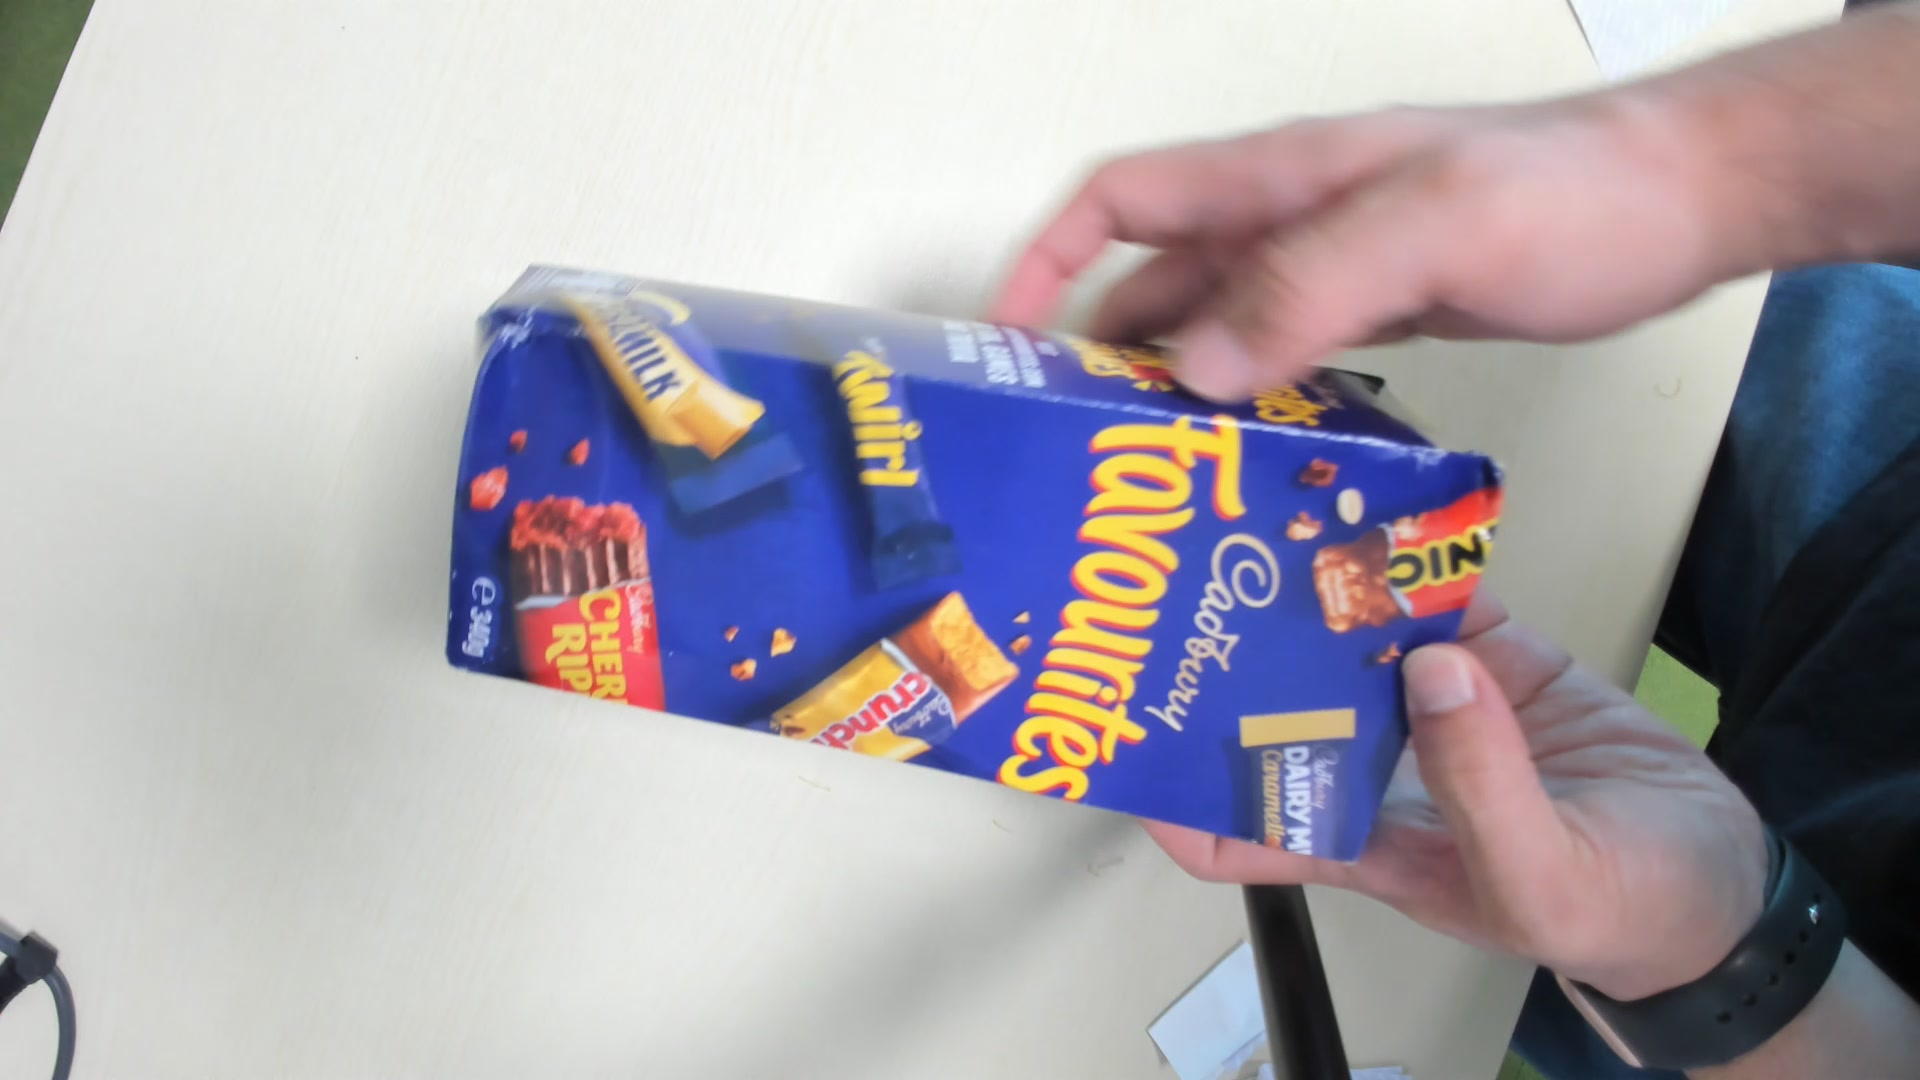SweetsChocolatesOthers_300-399g_NonHalal_Nonhealthy: (433, 266, 1495, 866)
